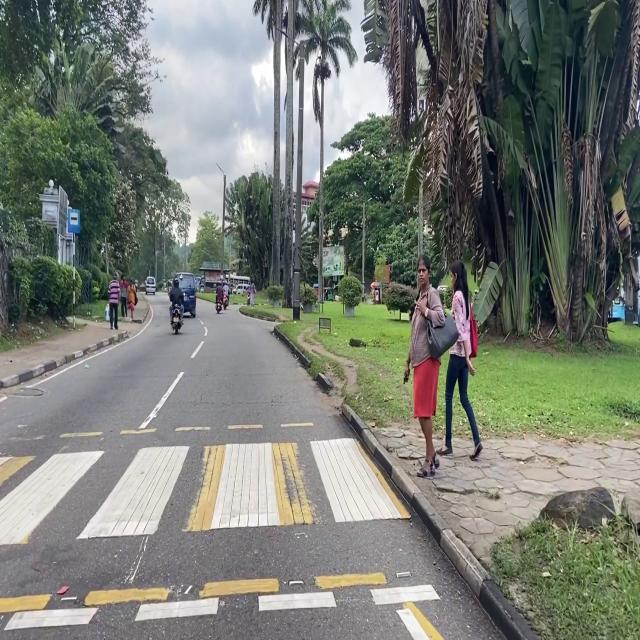bus: (609, 256, 640, 324), (229, 273, 250, 288)
motorcycle: (171, 305, 183, 334), (216, 298, 223, 313), (223, 296, 228, 309)
person: (404, 254, 458, 478), (439, 260, 482, 460), (108, 273, 120, 330), (169, 278, 183, 322), (128, 280, 137, 321), (120, 276, 128, 320), (249, 281, 255, 306), (216, 281, 223, 299), (223, 281, 229, 296), (134, 277, 138, 293)
three wheeler: (324, 285, 334, 301), (167, 280, 172, 295)
van: (177, 273, 196, 318), (145, 276, 156, 295)
